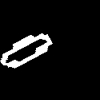chain: (1, 34, 51, 67)
